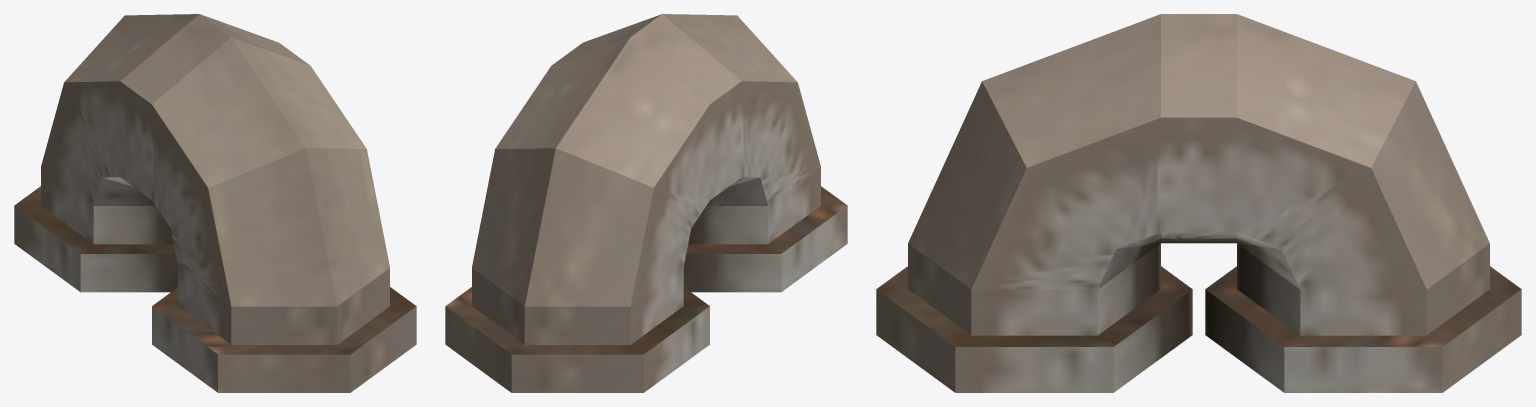
File: Pipe01Curve180.obj
3 renders of one model, left to right at view 1: azimuth 30°, elevation 25°; view 2: azimuth 150°, elevation 25°; view 3: azimuth 270°, elevation 25°, orthographic. The views are drawn at different scales.
Visible parts, largest first — view 1: Pipe01Curve180; view 2: Pipe01Curve180; view 3: Pipe01Curve180.
Part boxes in pixels (x1=…): Pipe01Curve180: x1=14, y1=14, x2=416, y2=392; Pipe01Curve180: x1=445, y1=14, x2=847, y2=392; Pipe01Curve180: x1=876, y1=14, x2=1521, y2=392.
Size of the model in its own units: 0.5413 by 0.7 by 1.27.
